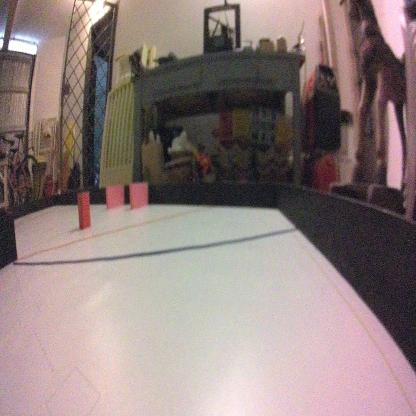magenta: (128, 178, 148, 214), (105, 184, 124, 210)
red: (74, 185, 93, 234)
